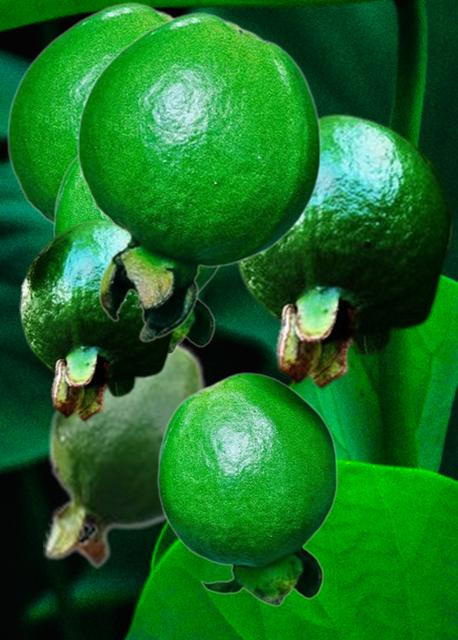guava: (76, 12, 321, 341), (234, 112, 454, 389), (156, 372, 337, 605), (6, 2, 175, 249), (43, 340, 211, 569), (52, 156, 219, 353), (19, 218, 177, 421)
